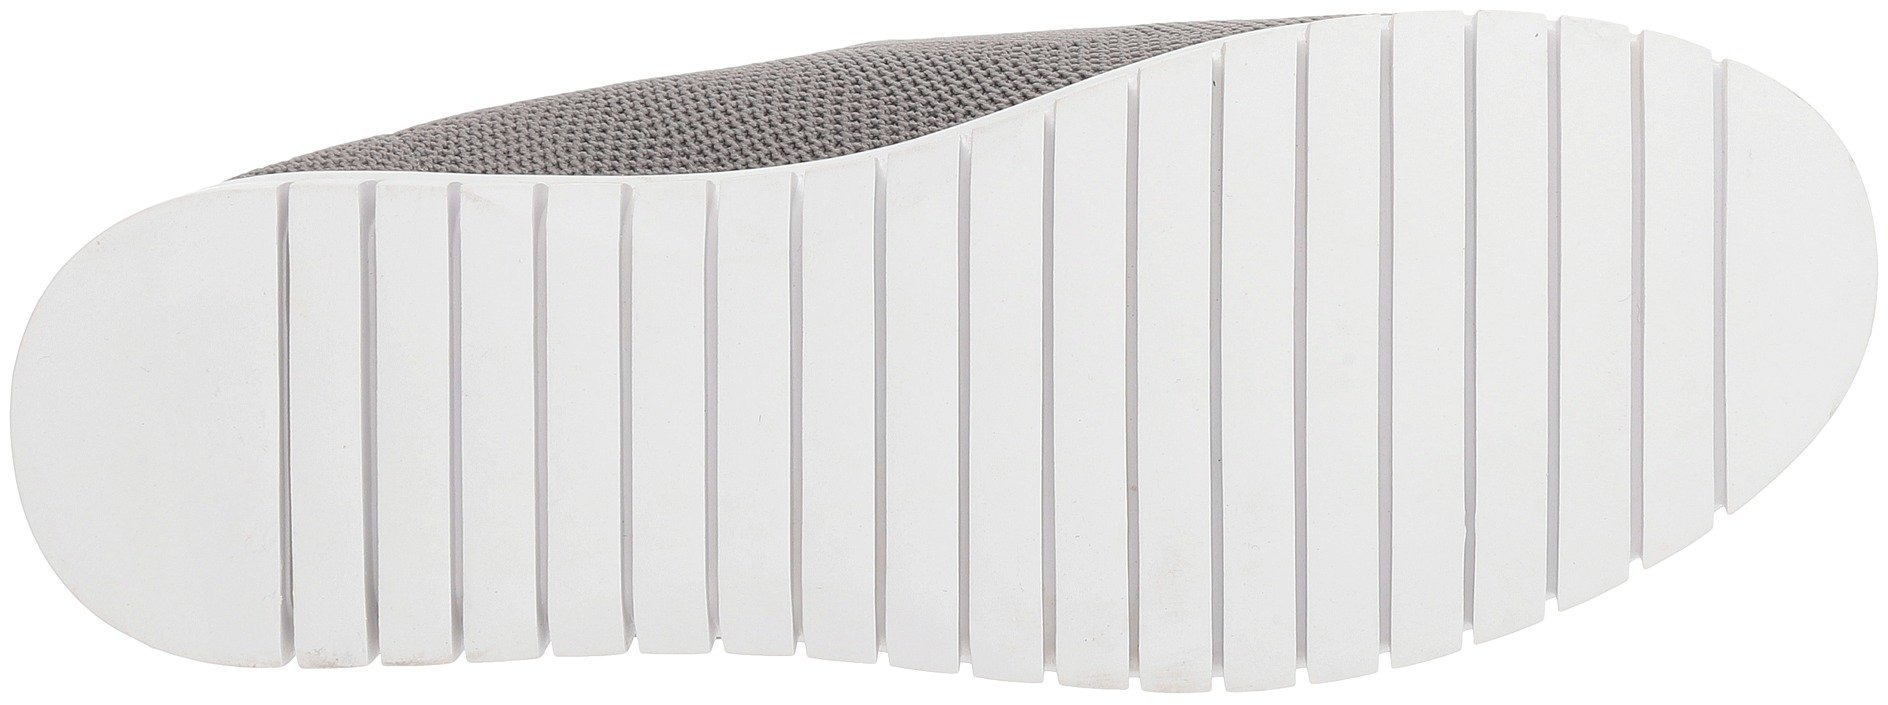other: (33, 333, 250, 557)
quad: (545, 184, 842, 502), (259, 186, 543, 475), (1133, 79, 1400, 371), (1128, 373, 1396, 647), (859, 155, 1123, 420), (1403, 269, 1666, 535), (845, 422, 1097, 662), (1403, 35, 1658, 263), (279, 488, 456, 657)
